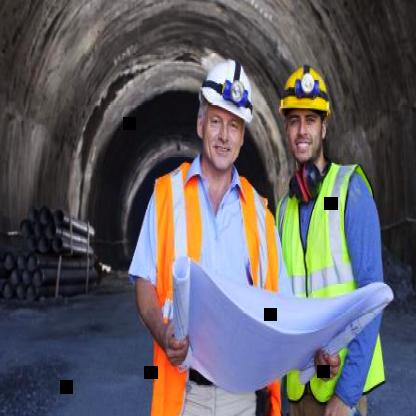helmet: (193, 52, 259, 178), (276, 60, 336, 174)
